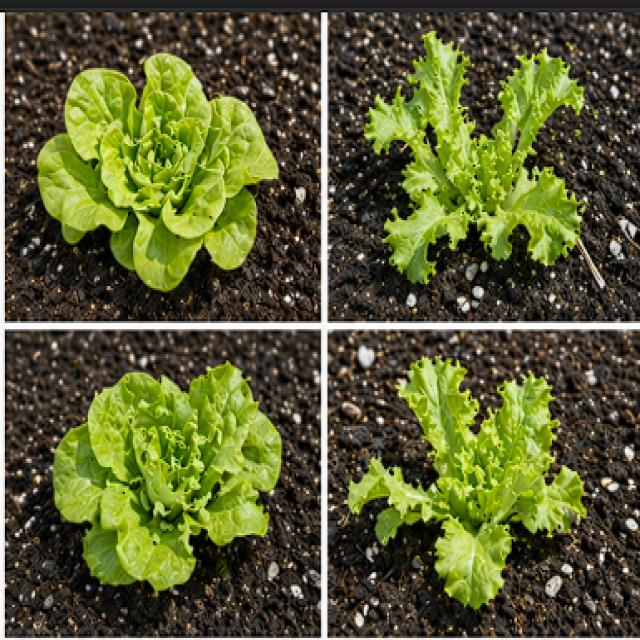inmadura: (347, 356, 585, 607), (37, 54, 278, 290), (364, 31, 582, 282), (53, 362, 279, 589)
